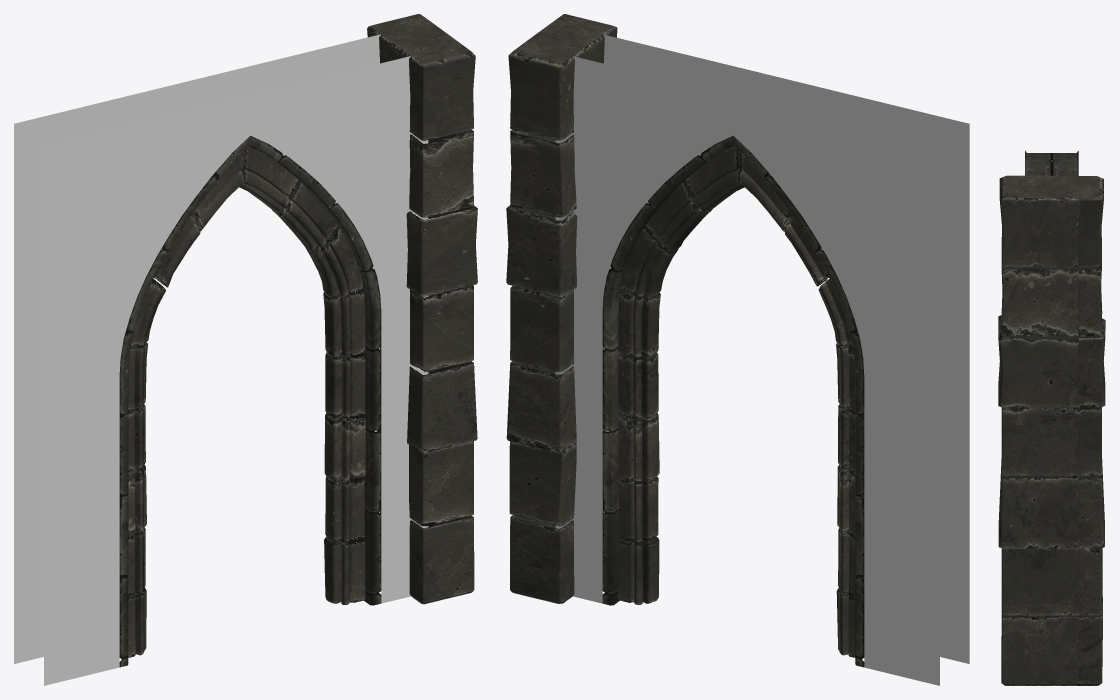
3 renders of one model, left to right at view 1: azimuth 30°, elevation 25°; view 2: azimuth 150°, elevation 25°; view 3: azimuth 270°, elevation 25°, orthographic. The views are drawn at different scales.
Visible parts, largest first — view 1: SM_Greathall_Hall_Arch_7x10_01_LOD0; view 2: SM_Greathall_Hall_Arch_7x10_01_LOD0; view 3: SM_Greathall_Hall_Arch_7x10_01_LOD0.
Boxes of the visible parts, x1,y1,x2,y2 form: SM_Greathall_Hall_Arch_7x10_01_LOD0: [14, 14, 477, 685]; SM_Greathall_Hall_Arch_7x10_01_LOD0: [506, 14, 969, 685]; SM_Greathall_Hall_Arch_7x10_01_LOD0: [998, 150, 1105, 685].
Size of the model in its own units: 8.16 by 10 by 1.99.
Materials: 3 (2 with a texture image).
